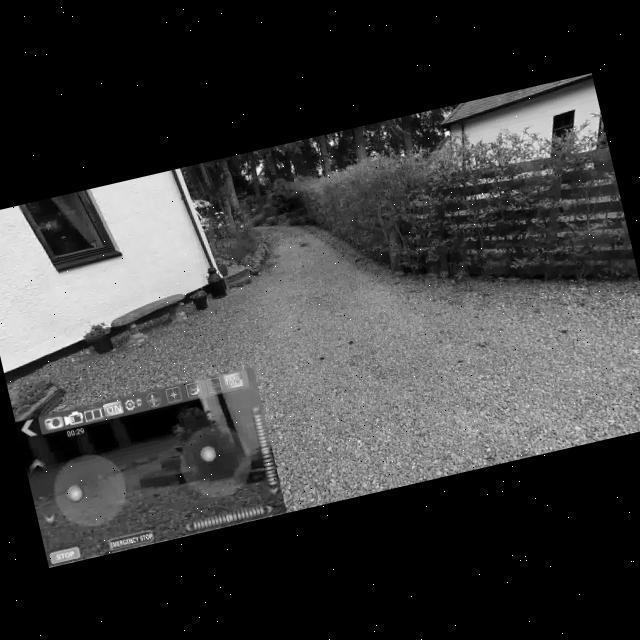Drons: (288, 235, 316, 255)
